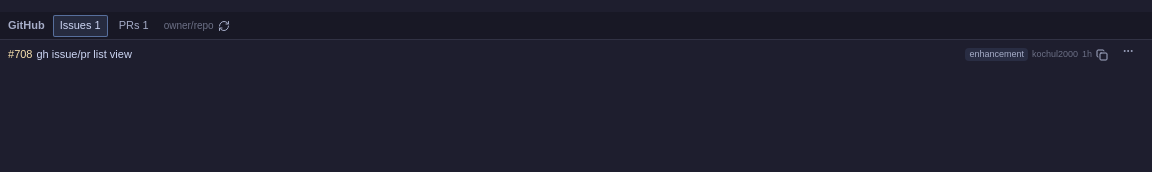
GitHubView › copies a pull request's branch from the button beside copy link
Click the button with test id "github-tab-pulls" at (134, 26), box [112,14,156,36]
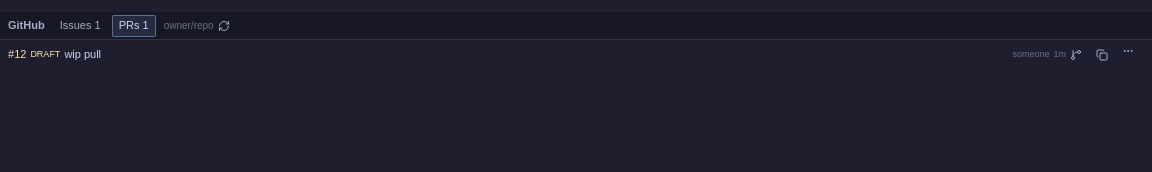
Click the button with test id "github-copy-branch-12" at (1081, 54), box [1070,44,1092,66]
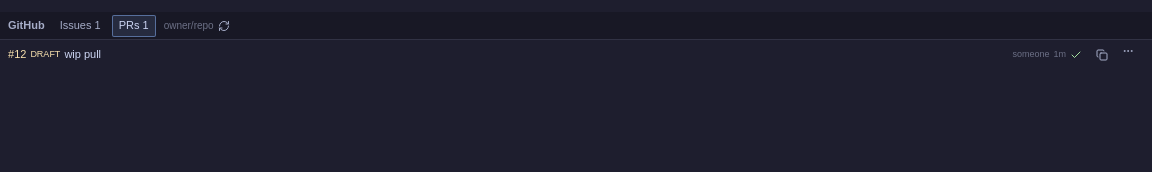
Check: the icon with class "lucide-copy" is shown, box [1096,48,1108,60]
Check: the icon with class "lucide-check" is shown, box [1070,48,1082,60]
